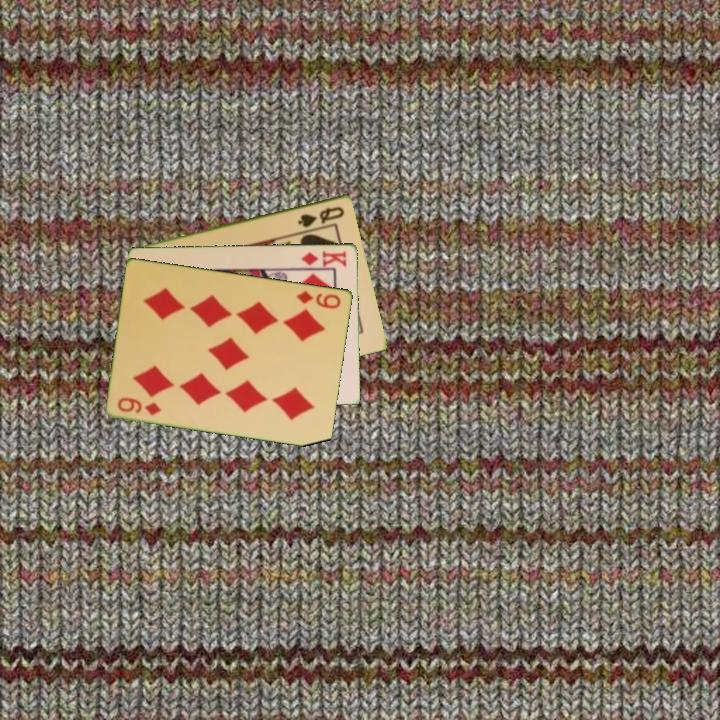9d: (293, 287, 344, 311), (114, 394, 165, 418)
Kd: (298, 247, 350, 269)
Qs: (294, 203, 348, 230)
